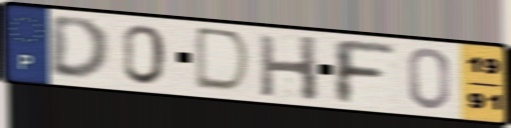0: (404, 46, 452, 112), (121, 24, 169, 86)
D: (190, 25, 255, 97), (47, 15, 114, 83)
F: (328, 35, 400, 107)
H: (255, 33, 321, 104)
